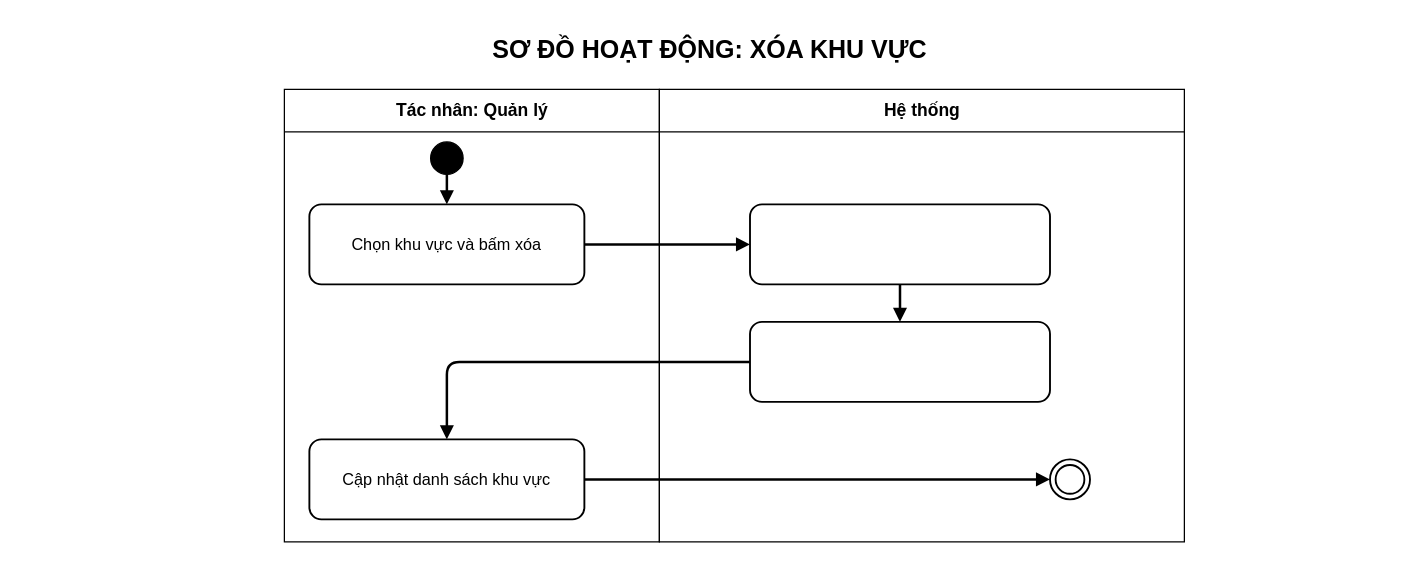
Image size: 1418x564. Some labels were removed from this diagram. Here are the shapes that lost their labels. From the top down, the box of each, then its label:
(748, 203, 1050, 285): Kiểm tra quyền quản lý khu vực
(748, 320, 1050, 402): Xóa mềm khu vực: đánh dấu đã xóa và tắt hoạt động
